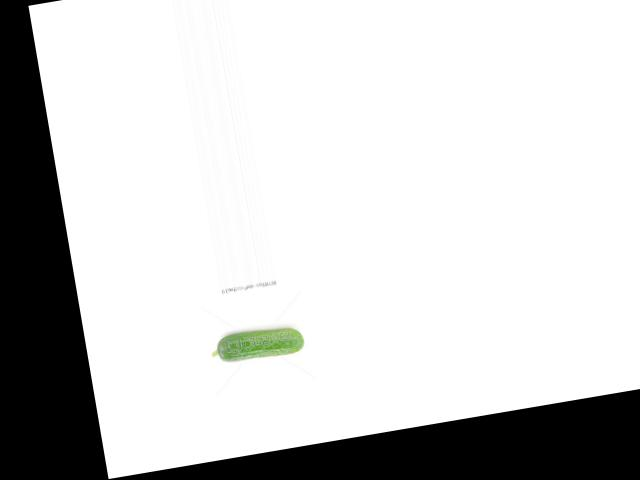cucumber: (209, 322, 306, 366)
